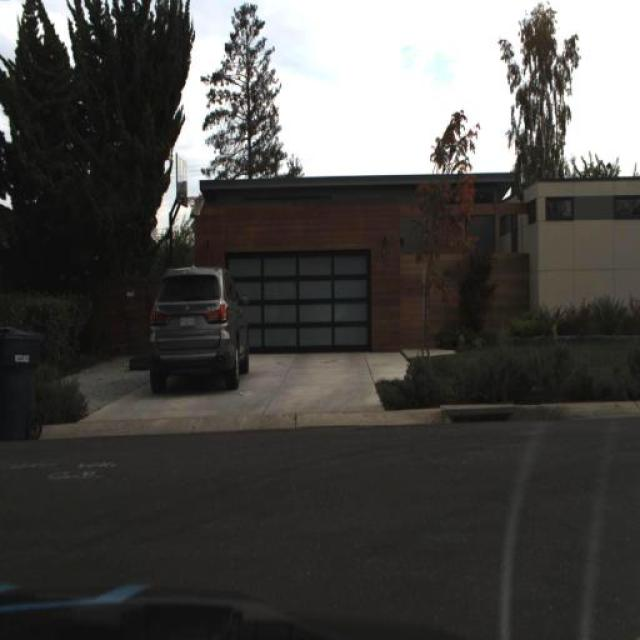car: (137, 250, 259, 400)
